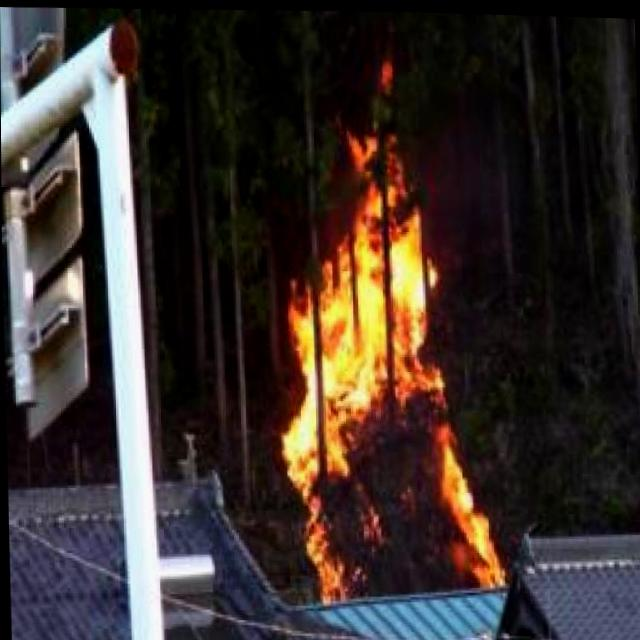Fire: (258, 97, 513, 598)
